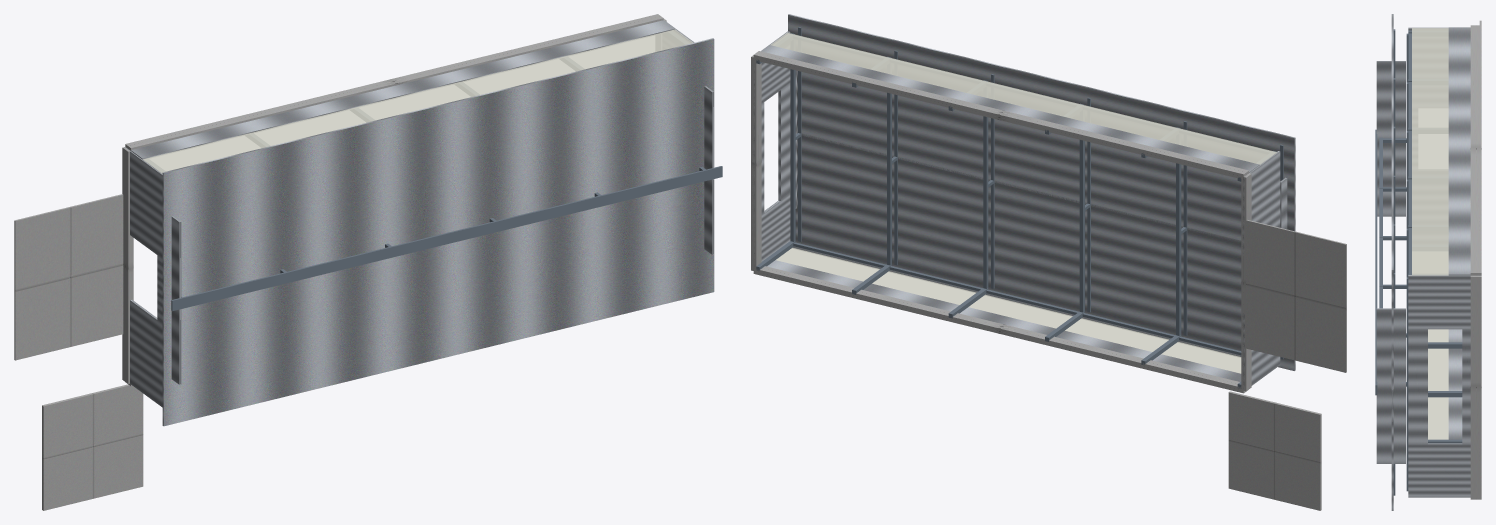
Rendered from poultry_barn.obj.
3 renders of one model, left to right at view 1: azimuth 30°, elevation 25°; view 2: azimuth 150°, elevation 25°; view 3: azimuth 270°, elevation 25°, orthographic. The views are drawn at different scales.
Size of the model in its own units: 29.4 by 15.2 by 4.36.
4 materials, 2 textured.
